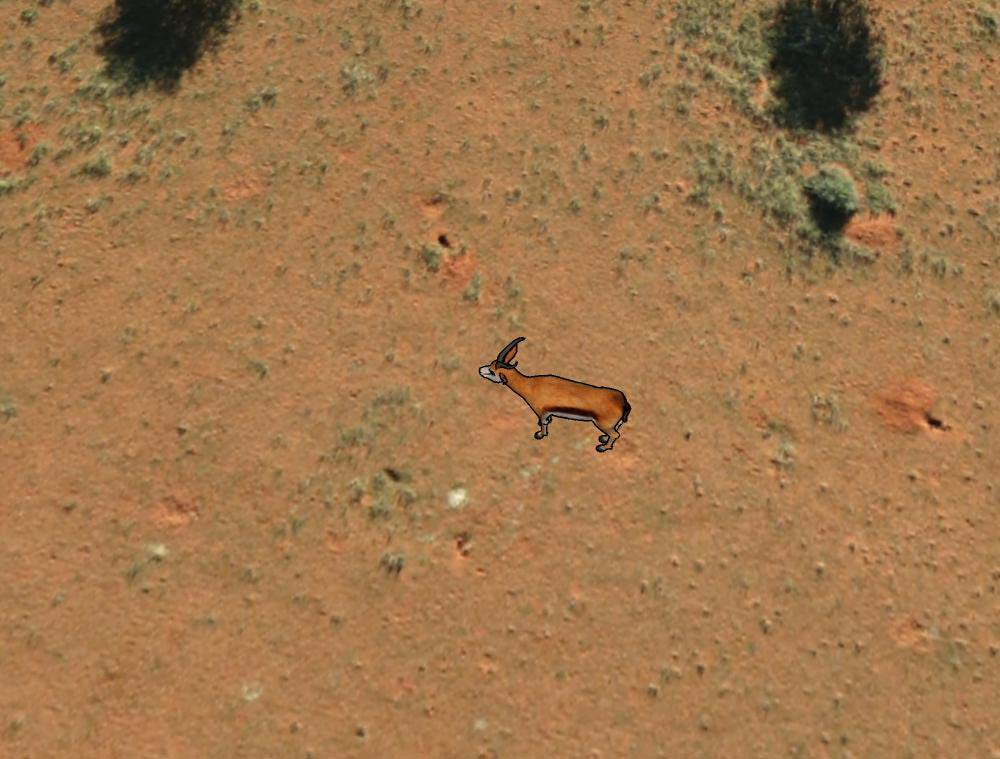springbok: (474, 334, 635, 457)
